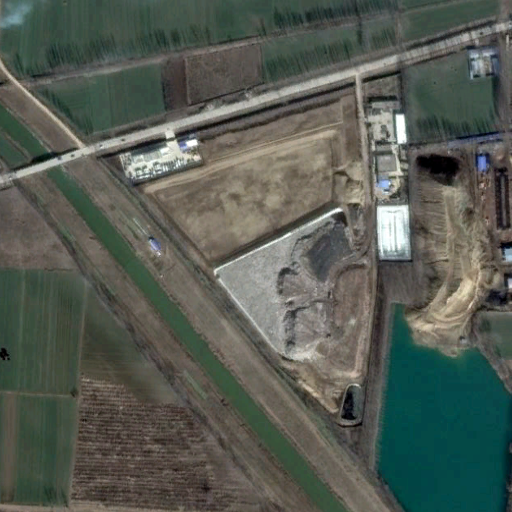lf: (211, 199, 351, 365)
